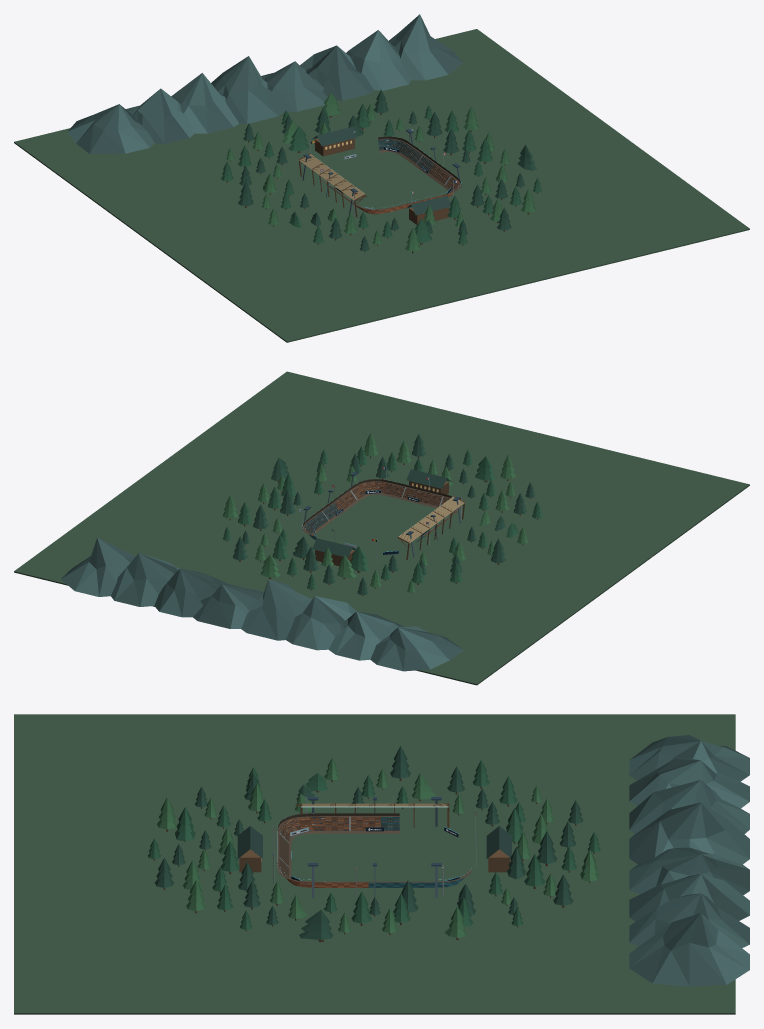
File: forest-v2.glb
3 views of the same model, one above another, from view 1: azimuth 30°, elevation 25°; view 2: azimuth 150°, elevation 25°; view 3: azimuth 270°, elevation 25° (orthographic). The views are drawn at different scales.
Visible parts, largest first — view 1: Arena architecture / forest; view 2: Arena architecture / forest; view 3: Arena architecture / forest.
Boxes of the visible parts, x1,y1,x2,y2 form: Arena architecture / forest: (14, 14, 749, 342); Arena architecture / forest: (14, 371, 749, 685); Arena architecture / forest: (14, 714, 749, 1014).
Size of the model in its own units: 61300 by 5410 by 63831.
Materials: 4 (2 with a texture image).
